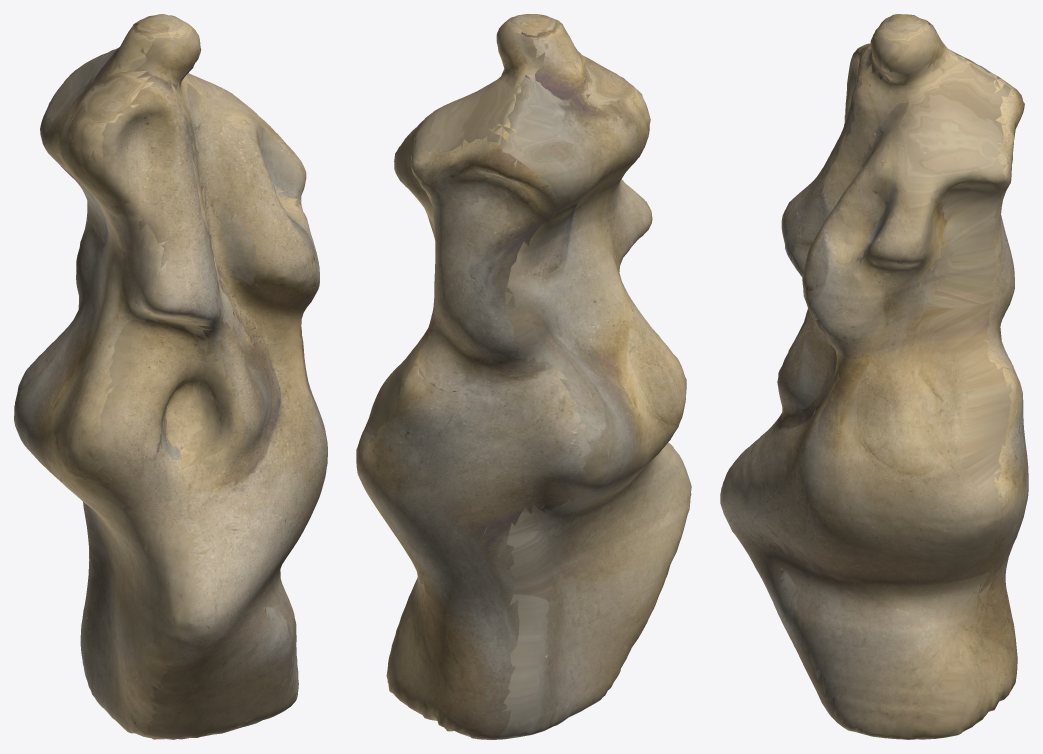
File: escultura-esc-008.glb
3 views of the same model, side by side, from view 1: azimuth 30°, elevation 25°; view 2: azimuth 150°, elevation 25°; view 3: azimuth 270°, elevation 25° (orthographic). The views are drawn at different scales.
Parts seen in each view (by area): view 1: world; view 2: world; view 3: world.
Boxes of the visible parts, left/top/right/bottom form: world: left=14, top=14, right=327, bottom=739; world: left=356, top=14, right=691, bottom=739; world: left=720, top=14, right=1028, bottom=739.
Size of the model in its own units: 0.4917 by 1.22 by 0.5124.
1 material, 1 textured.
